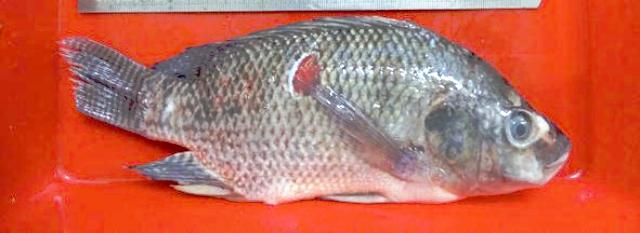Tilapia Lake Virus -TiLV-: (61, 16, 570, 205)
